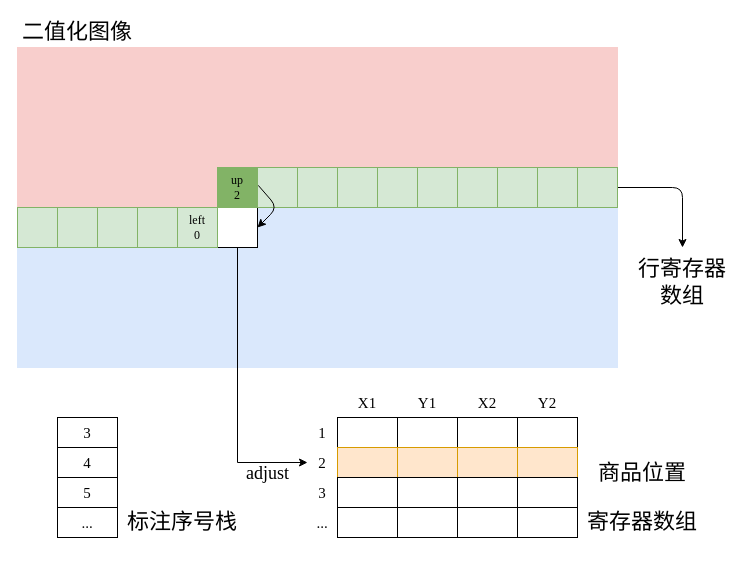
Some shapes in this 755 by 574 pixel diagram are drawn without their labels. The centre of each missing label's shape, as x and y in pixels:
"now 2" goes at (x=237, y=227).
"已遍历区域" goes at (x=317, y=107).
"未遍历区域" goes at (x=317, y=307).
